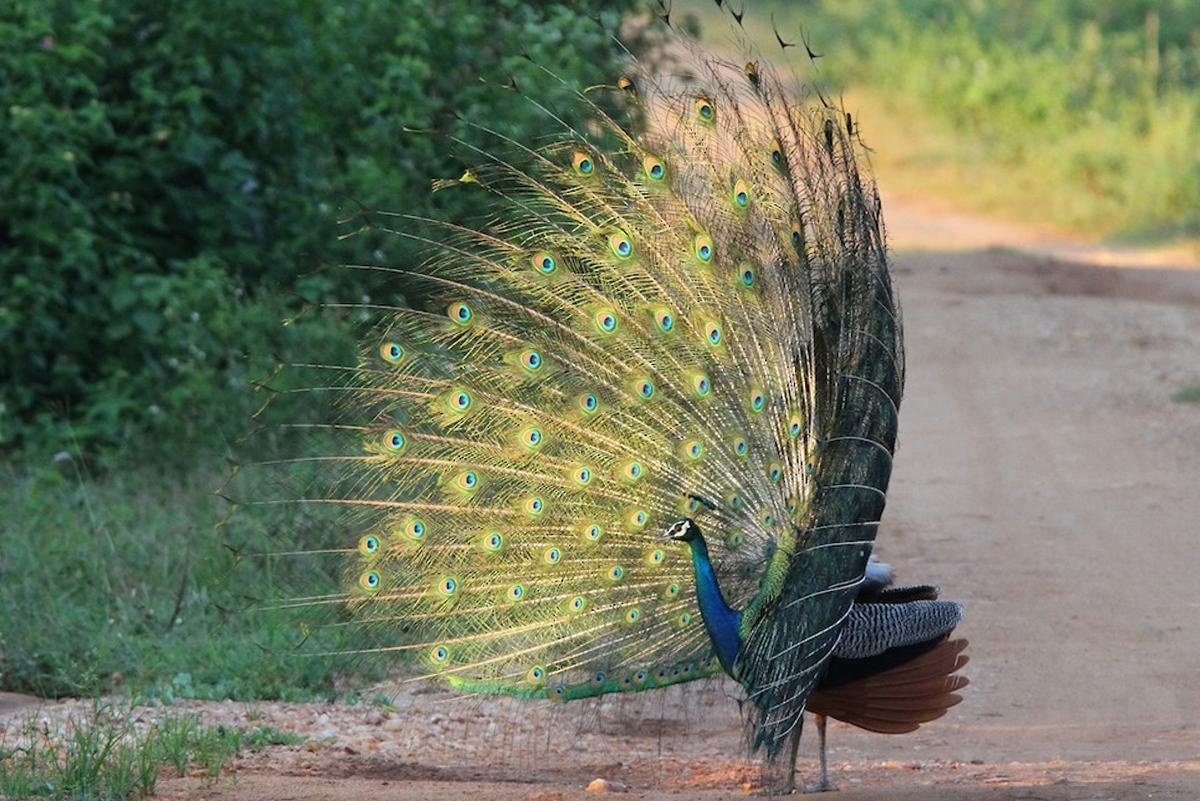peacock: (347, 83, 1003, 778)
